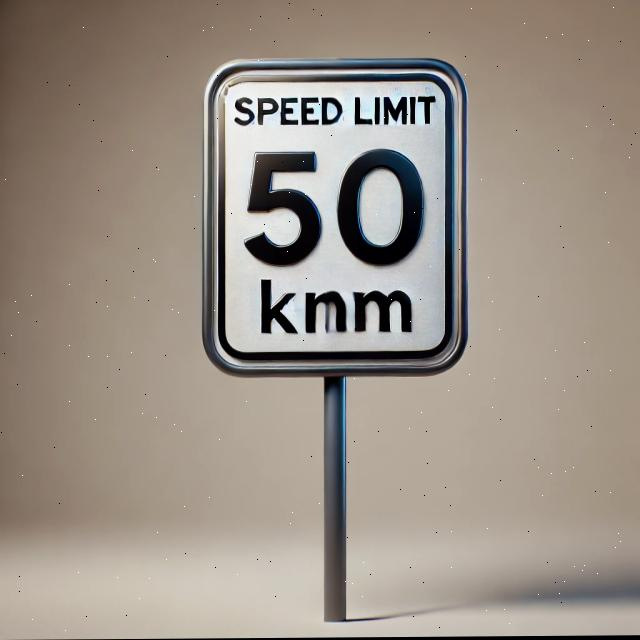Speed limit 50: (201, 56, 472, 382)
